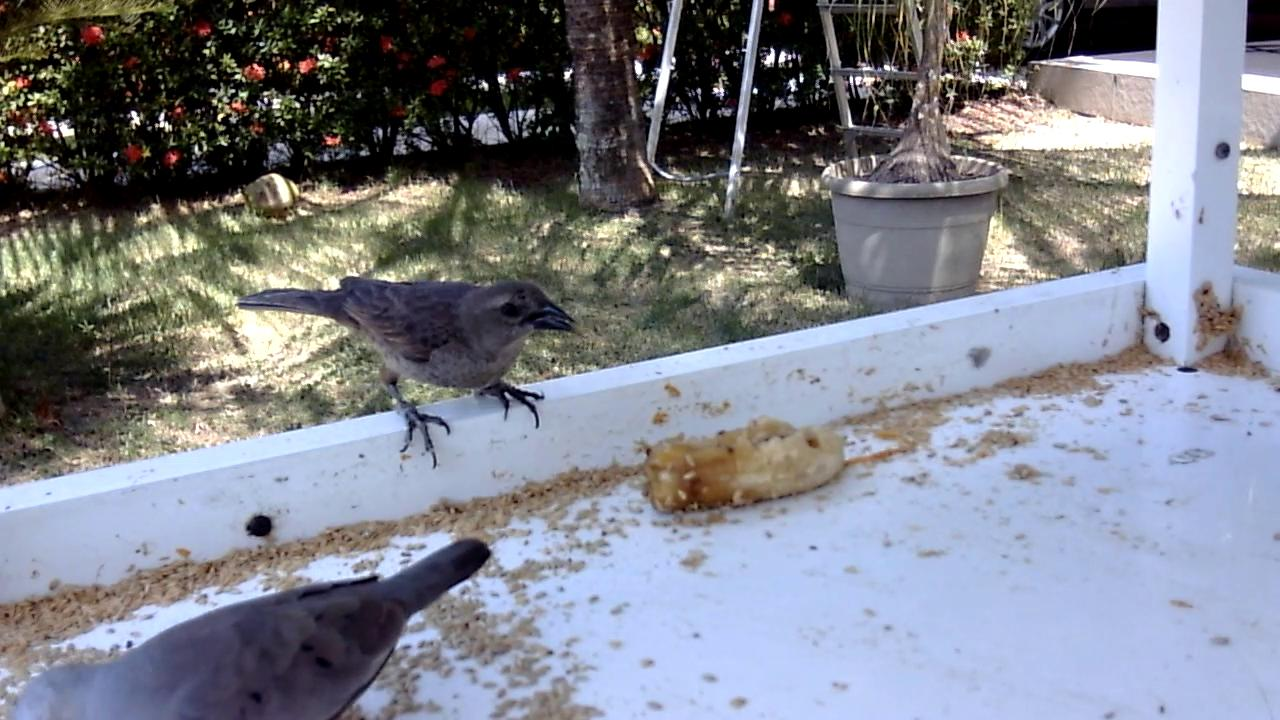chupim: (234, 273, 582, 474)
rolinha: (11, 533, 498, 720)
